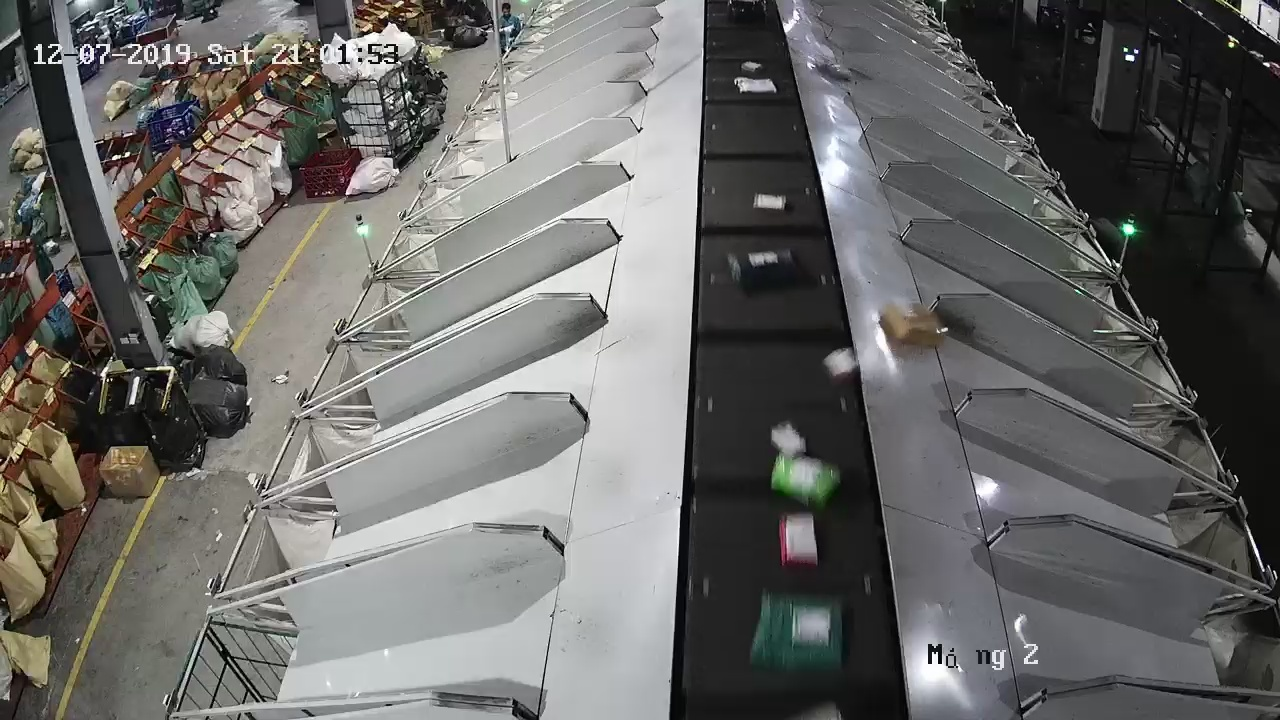parcel: (878, 299, 945, 346), (818, 345, 863, 387)
